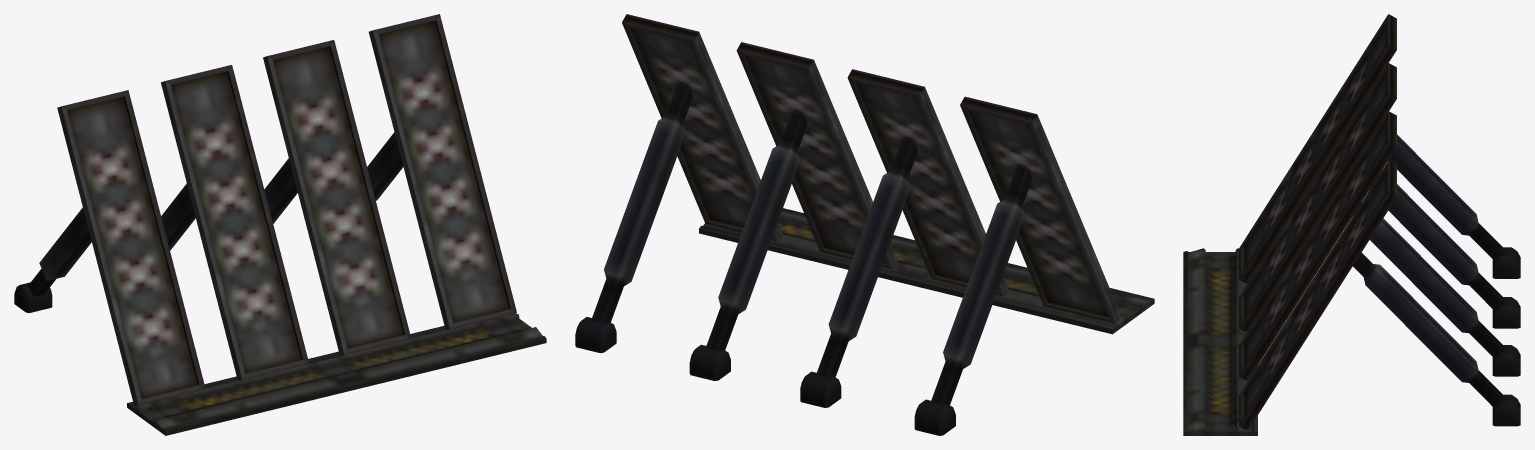
Rendered from Shield_04.FBX.
The picture shows the model from 3 angles, left to right: view 1: azimuth 30°, elevation 25°; view 2: azimuth 150°, elevation 25°; view 3: azimuth 270°, elevation 25°; orthographic projection. The views are drawn at different scales.
Visible parts, largest first — view 1: Shield_04; view 2: Shield_04; view 3: Shield_04.
Boxes of the visible parts, left/top/right/bottom form: Shield_04: left=14, top=14, right=546, bottom=435; Shield_04: left=575, top=14, right=1154, bottom=435; Shield_04: left=1183, top=14, right=1520, bottom=435.
Size of the model in its own units: 285 by 180 by 226.
